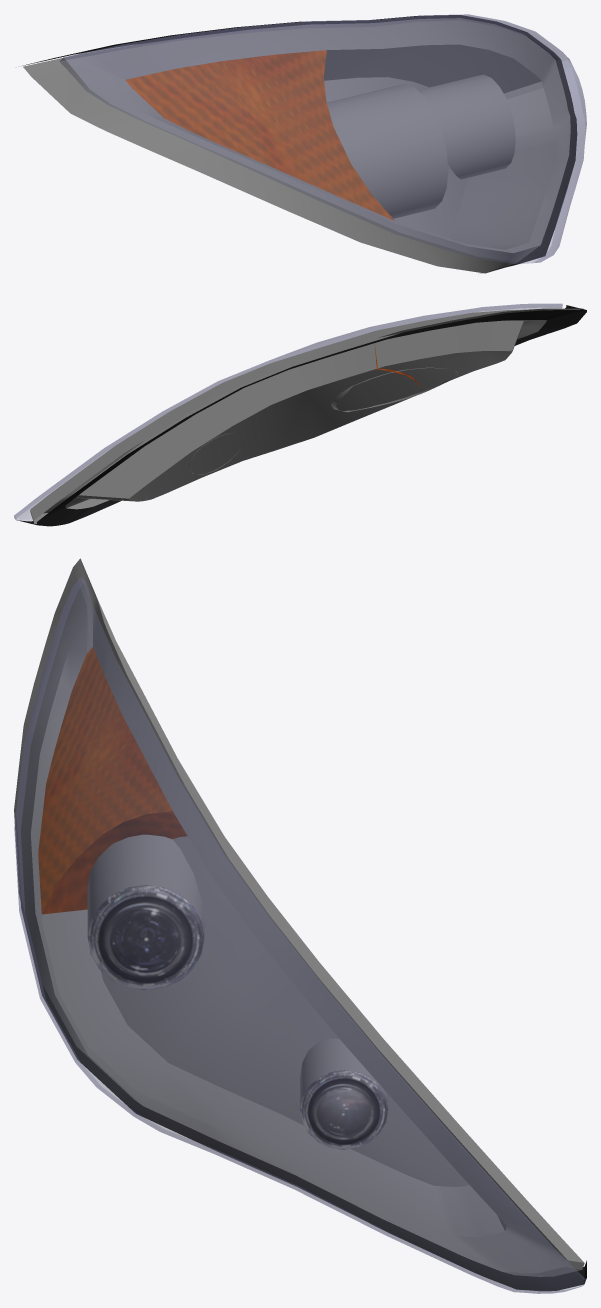
The picture shows the model from 3 angles, top to bottom: view 1: azimuth 30°, elevation 25°; view 2: azimuth 150°, elevation 25°; view 3: azimuth 270°, elevation 25°; orthographic projection. The views are drawn at different scales.
Visible parts, largest first — view 1: E317_061B_R_E317_061B_R_5_DTaSI, E317_061B_R_E317_061B_R_2_DaS, E317_061B_R_E317_061B_R_6_N, E317_061B_R_E317_061B_R_4_D; view 2: E317_061B_R_E317_061B_R_2_DaS, E317_061B_R_E317_061B_R_4_D, E317_061B_R_E317_061B_R_5_DTaSI; view 3: E317_061B_R_E317_061B_R_5_DTaSI, E317_061B_R_E317_061B_R_2_DaS, E317_061B_R_E317_061B_R_6_N, E317_061B_R_E317_061B_R_3_N, E317_061B_R_E317_061B_R_4_D, E317_061B_R_1_N_E317_061B_R.
Boxes of the visible parts, left/top/right/bottom form: E317_061B_R_E317_061B_R_5_DTaSI: left=59, top=14, right=586, bottom=263; E317_061B_R_E317_061B_R_2_DaS: left=23, top=18, right=570, bottom=273; E317_061B_R_E317_061B_R_6_N: left=125, top=50, right=394, bottom=220; E317_061B_R_E317_061B_R_4_D: left=22, top=15, right=577, bottom=273; E317_061B_R_E317_061B_R_2_DaS: left=30, top=308, right=583, bottom=523; E317_061B_R_E317_061B_R_4_D: left=17, top=305, right=586, bottom=526; E317_061B_R_E317_061B_R_5_DTaSI: left=14, top=303, right=562, bottom=520; E317_061B_R_E317_061B_R_5_DTaSI: left=14, top=577, right=585, bottom=1293; E317_061B_R_E317_061B_R_2_DaS: left=14, top=558, right=584, bottom=1276; E317_061B_R_E317_061B_R_6_N: left=38, top=647, right=187, bottom=914; E317_061B_R_E317_061B_R_3_N: left=88, top=885, right=204, bottom=990; E317_061B_R_E317_061B_R_4_D: left=16, top=822, right=586, bottom=1290; E317_061B_R_1_N_E317_061B_R: left=300, top=1070, right=387, bottom=1149.
Bounding box in the file's own units: 68.63 × 33.32 × 45.34.
